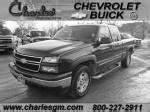car: (9, 24, 134, 102)
